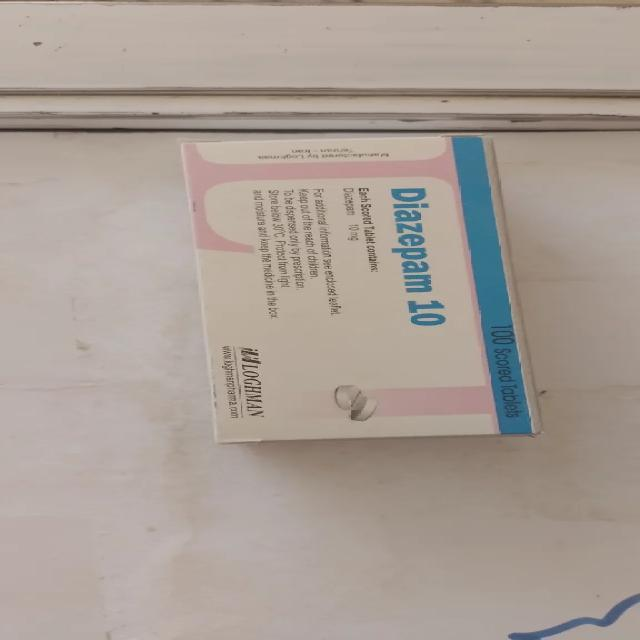drug-name: (387, 186, 450, 329)
